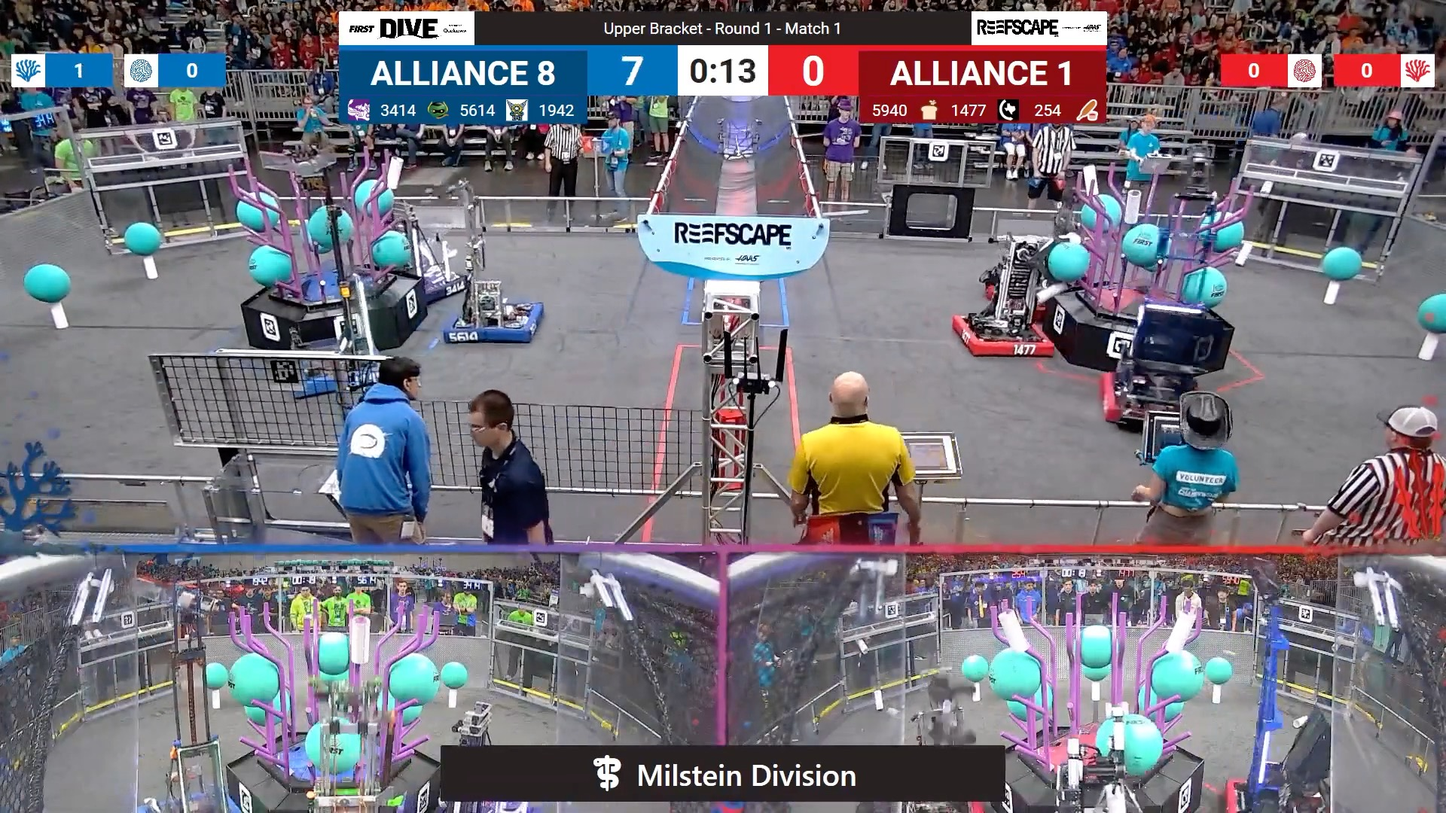bumpers: (1092, 362, 1219, 430), (1219, 764, 1342, 813), (948, 311, 1062, 362), (285, 352, 405, 395), (445, 302, 550, 345), (128, 786, 244, 813), (416, 266, 473, 301), (984, 274, 1002, 297)
